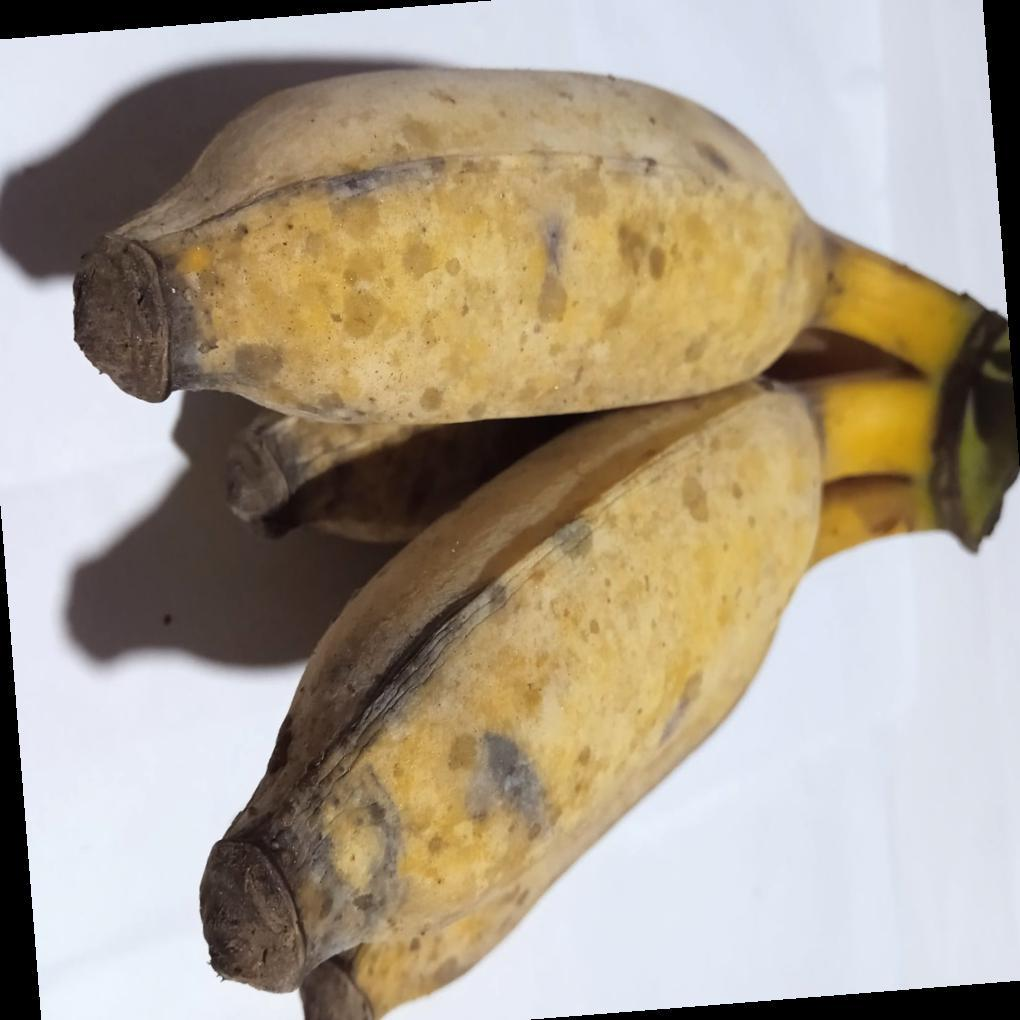Banana Ripe: (183, 344, 1020, 1019), (116, 67, 1012, 596)
